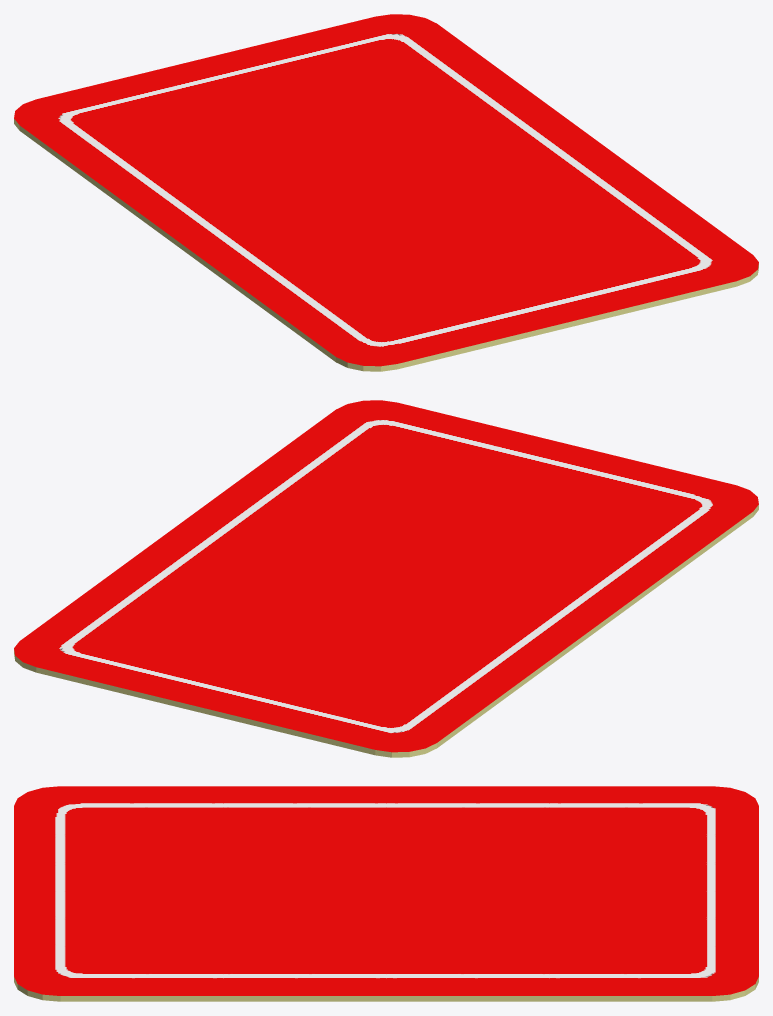
File: PlayingCard.fbx
3 views of the same model, one above another, from view 1: azimuth 30°, elevation 25°; view 2: azimuth 150°, elevation 25°; view 3: azimuth 270°, elevation 25° (orthographic). The views are drawn at different scales.
Visible parts, largest first — view 1: Circle; view 2: Circle; view 3: Circle.
Boxes of the visible parts, <box> form: Circle: <box>14,14,758,371</box>; Circle: <box>14,400,758,757</box>; Circle: <box>14,786,758,1001</box>.
Bounding box in the file's own units: 400 × 5 × 600.
1 material, 1 textured.
